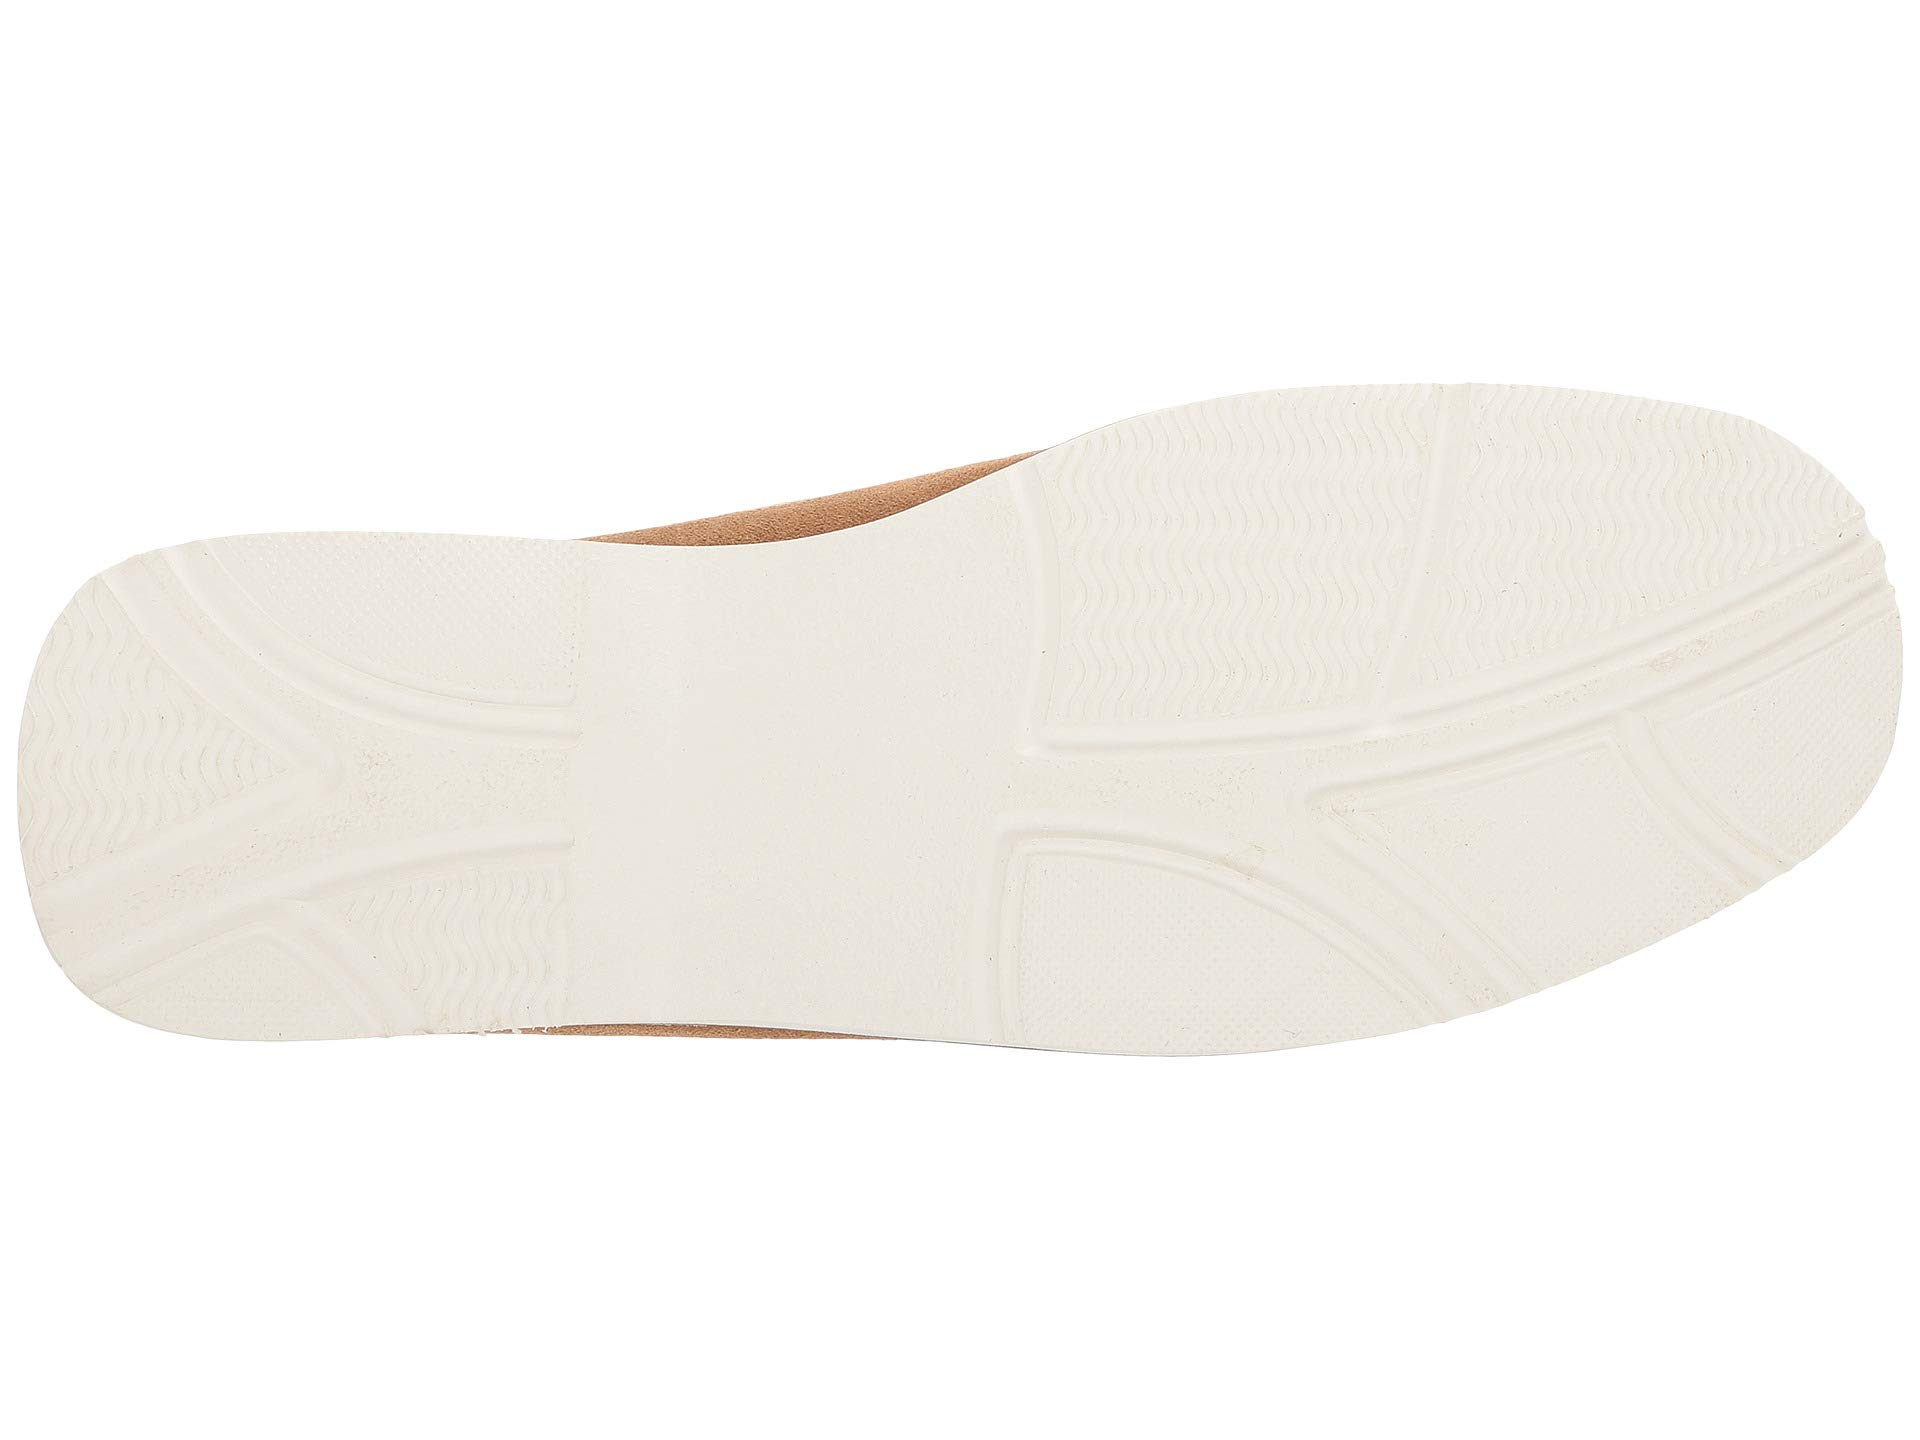chevron: (1131, 458, 1365, 684)
